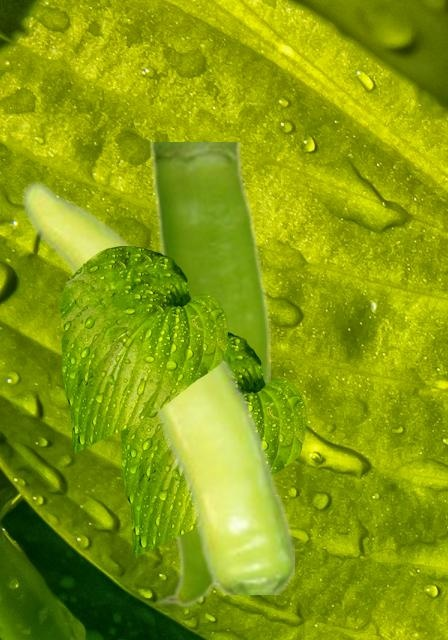green_chili: (22, 179, 293, 593), (147, 142, 269, 607)
